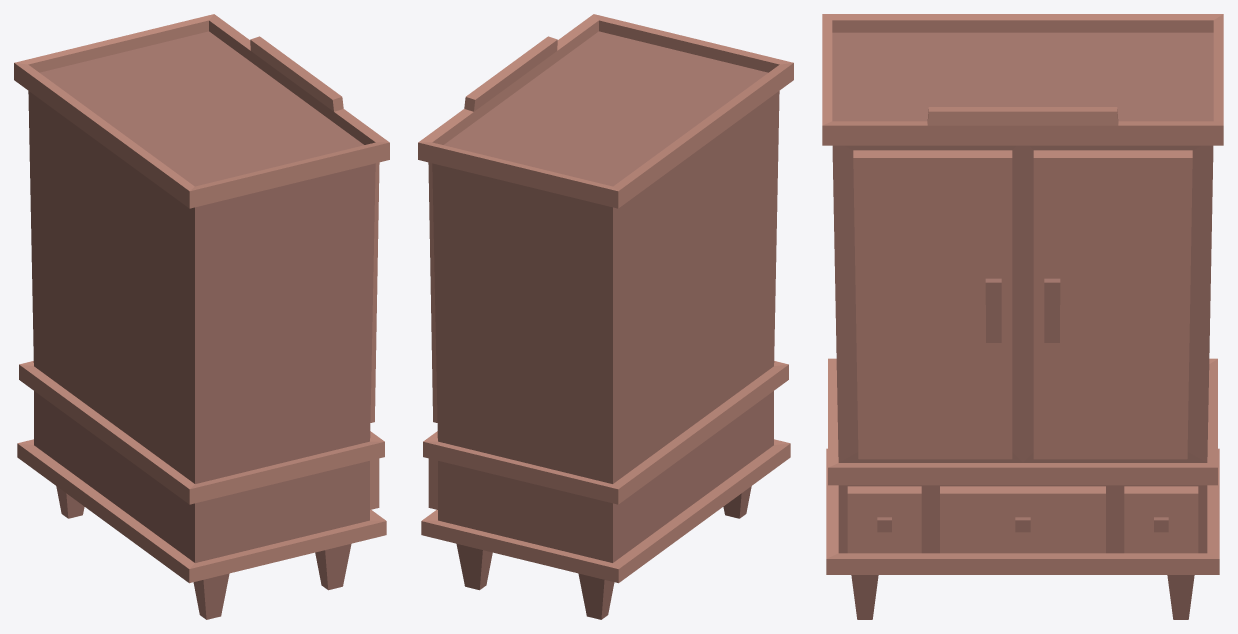
Rendered from Closet2.glb.
3 renders of one model, left to right at view 1: azimuth 30°, elevation 25°; view 2: azimuth 150°, elevation 25°; view 3: azimuth 270°, elevation 25°, orthographic. The views are drawn at different scales.
Parts seen in each view (by area): view 1: DarkWood.001, Wood.003; view 2: DarkWood.001, Wood.003; view 3: Wood.003, DarkWood.001.
Boxes of the visible parts, x1,y1,x2,y2 form: DarkWood.001: (28, 31, 375, 619); Wood.003: (14, 14, 389, 583); DarkWood.001: (432, 31, 779, 619); Wood.003: (418, 14, 793, 583); Wood.003: (822, 14, 1223, 574); DarkWood.001: (832, 32, 1213, 619).
Bounding box in the file's own units: 0.4755 × 0.9958 × 0.6895.
